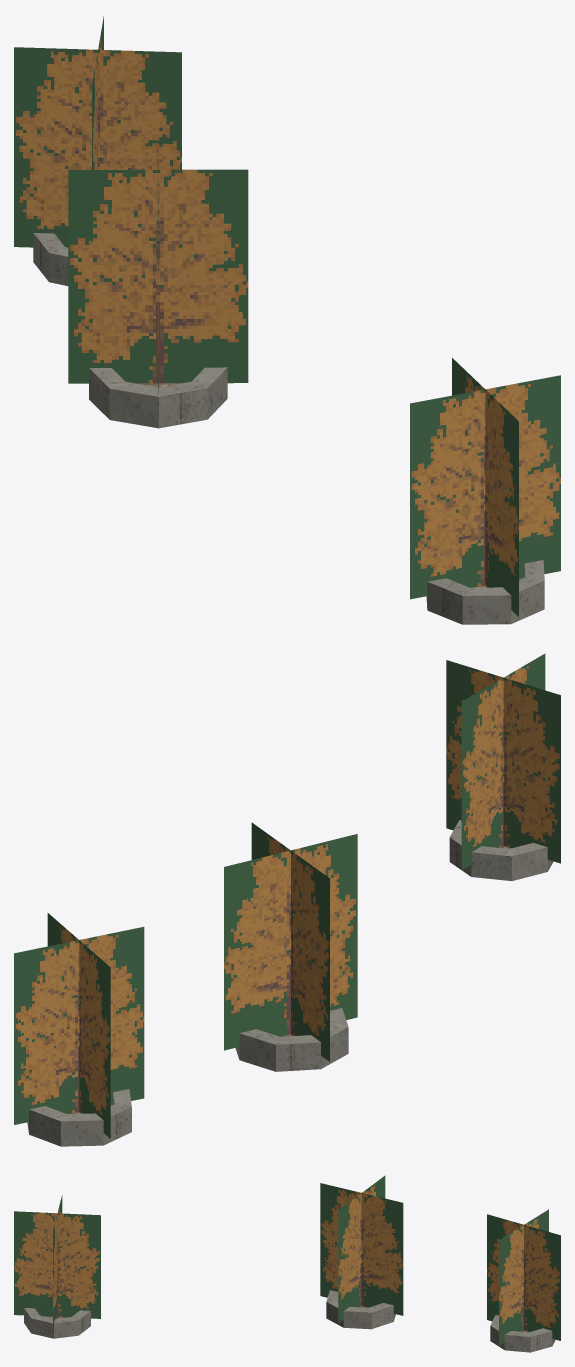
Rendered from procgen-procpain-tree-park-large-xm2zm1.obj.
3 renders of one model, top to bottom at view 1: azimuth 30°, elevation 25°; view 2: azimuth 150°, elevation 25°; view 3: azimuth 270°, elevation 25°, orthographic. The views are drawn at different scales.
Bounding box in the file's own units: 6.83 × 6.77 × 27.62.
